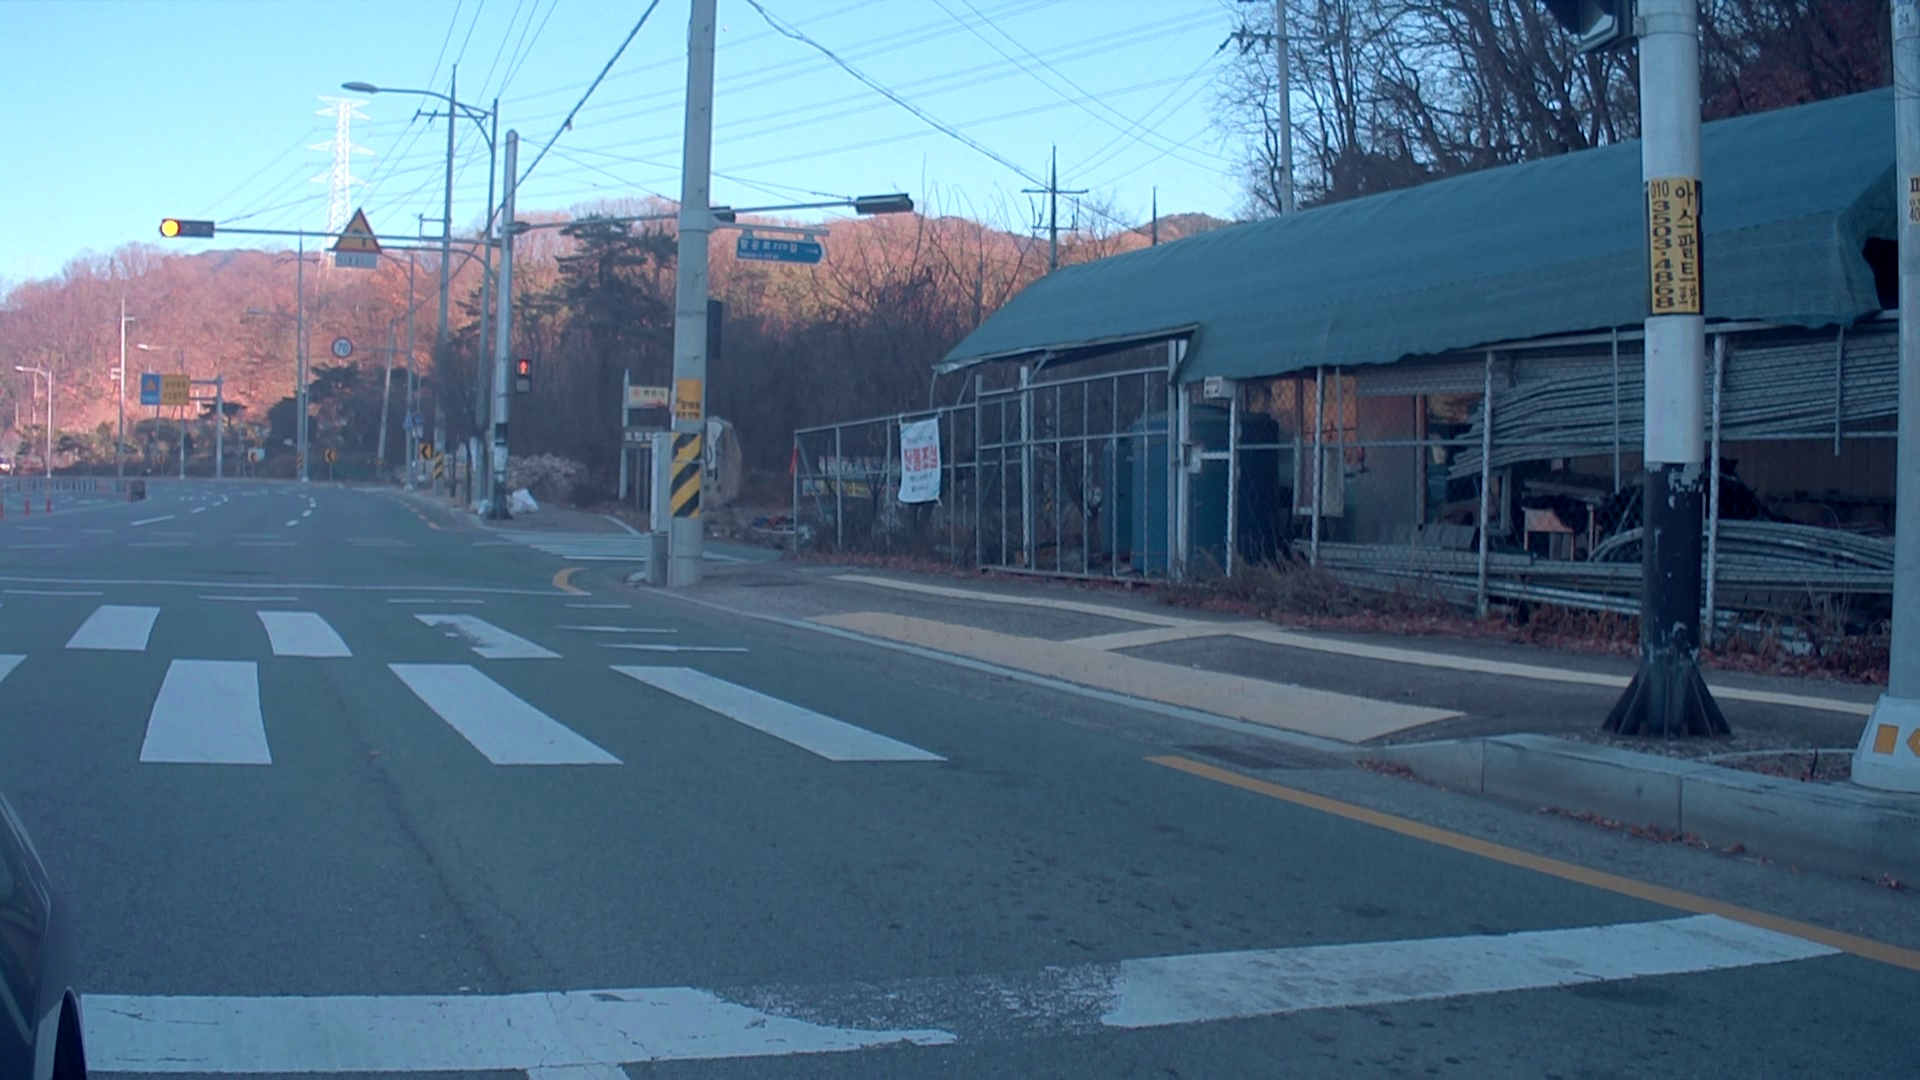trafficLight: (161, 214, 218, 241)
trafficSignCircle: (332, 336, 352, 359)
trafficSignRTG: (140, 372, 193, 409)
trafficSignTri: (335, 206, 382, 251)
